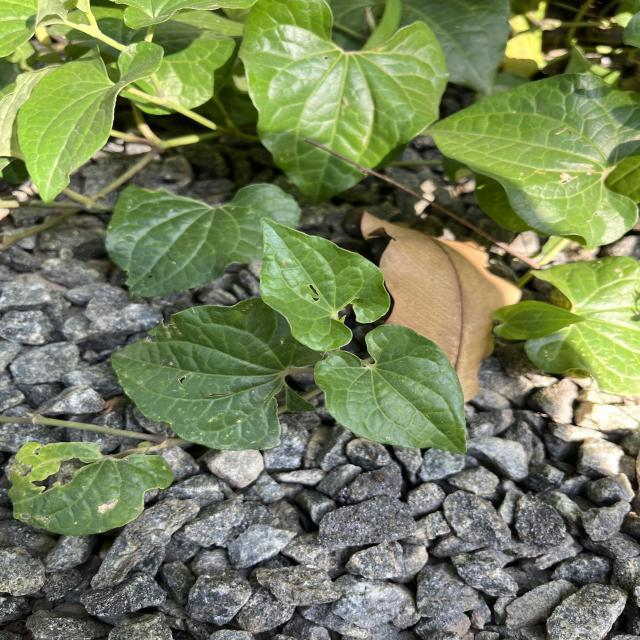Piper longum: (12, 38, 168, 210), (312, 321, 471, 458), (255, 214, 395, 352)
